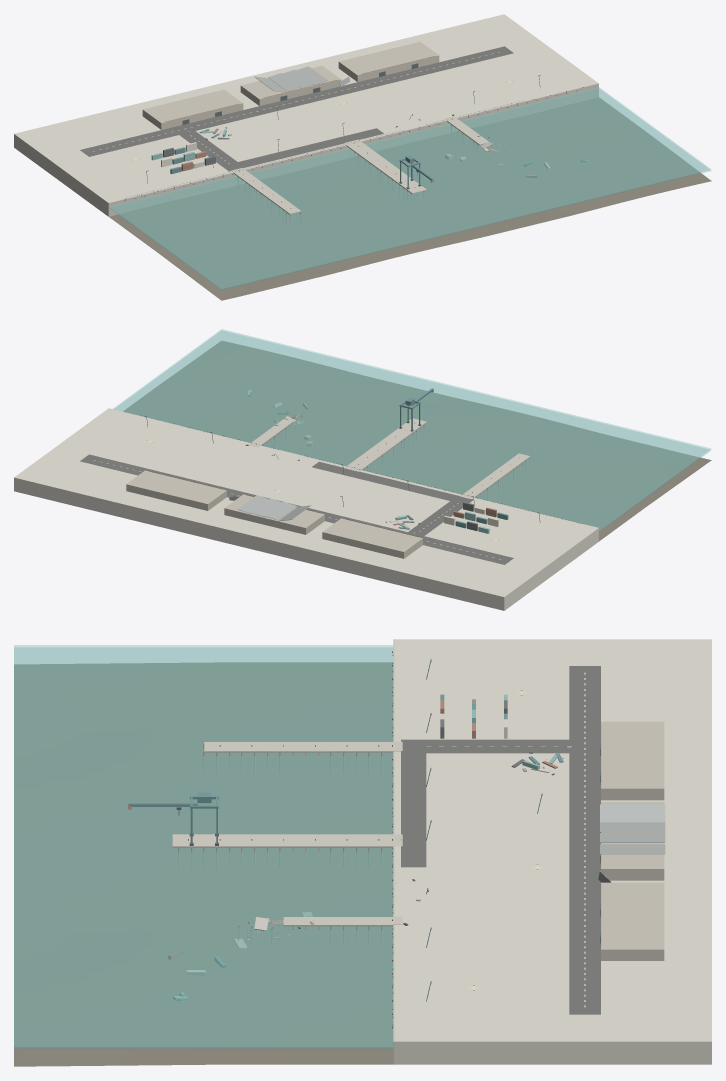
File: port-world-high.glb
3 views of the same model, one above another, from view 1: azimuth 30°, elevation 25°; view 2: azimuth 150°, elevation 25°; view 3: azimuth 270°, elevation 25° (orthographic). The views are drawn at different scales.
Visible parts, largest first — view 1: port-world-high_root; view 2: port-world-high_root; view 3: port-world-high_root.
Boxes of the visible parts, <box> form: port-world-high_root: <box>14,14,711,300</box>; port-world-high_root: <box>14,329,711,610</box>; port-world-high_root: <box>14,639,711,1066</box>.
Bounding box in the file's own units: 600 × 49.5 × 440.
